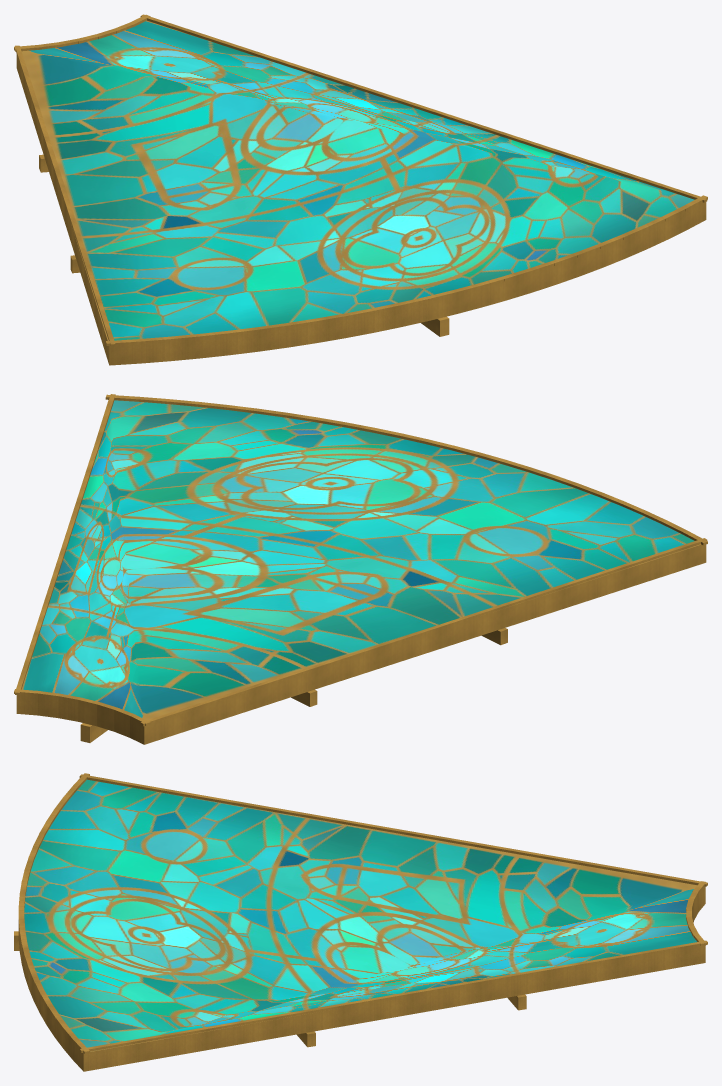
Rendered from lb_wedge_4.glb.
3 renders of one model, top to bottom at view 1: azimuth 30°, elevation 25°; view 2: azimuth 150°, elevation 25°; view 3: azimuth 270°, elevation 25°, orthographic. The views are drawn at different scales.
Visible parts, largest first — view 1: lb_wedge_4; view 2: lb_wedge_4; view 3: lb_wedge_4.
Boxes of the visible parts, <box> form: lb_wedge_4: <box>14,14,707,365</box>; lb_wedge_4: <box>14,394,707,744</box>; lb_wedge_4: <box>14,773,707,1071</box>.
Size of the model in its own units: 11.56 by 1.35 by 12.17.
Materials: 4 (3 with a texture image).
